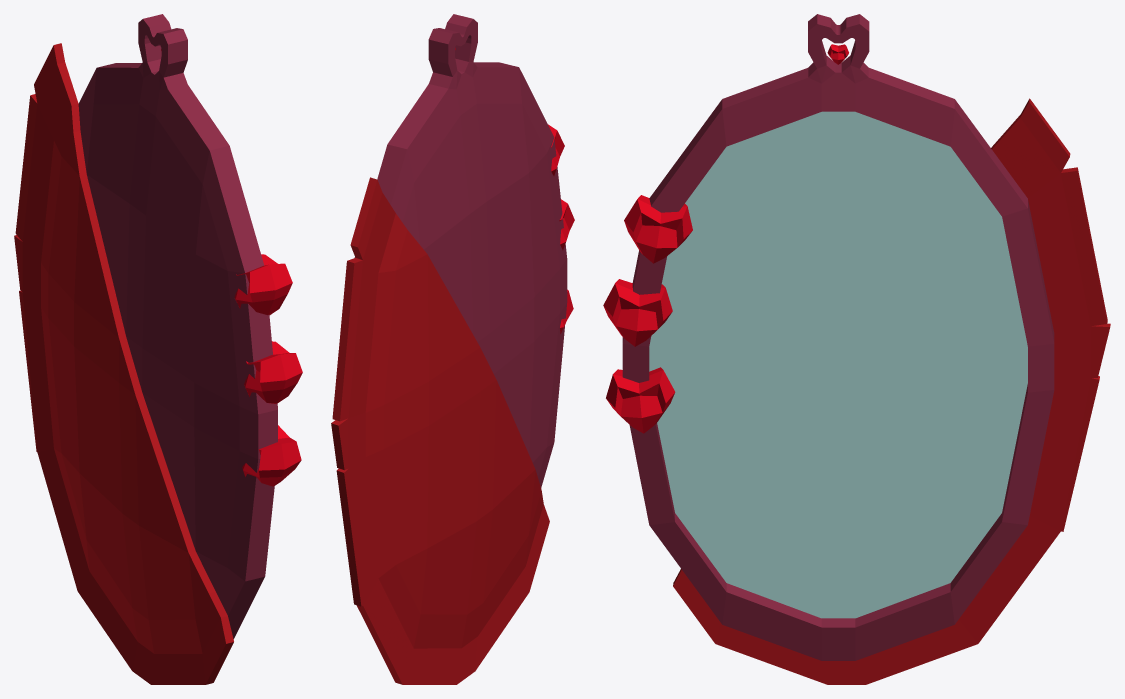
Rendered from mirror.glb.
3 renders of one model, left to right at view 1: azimuth 30°, elevation 25°; view 2: azimuth 150°, elevation 25°; view 3: azimuth 270°, elevation 25°, orthographic. The views are drawn at different scales.
Visible parts, largest first — view 1: Cube, Cube.001, Cube.002, Cube.003; view 2: Cube, Cube.001; view 3: Cube, Cube.001, Cube.003, Cube.002.
Boxes of the visible parts, x1,y1,x2,y2 form: Cube: (14,14,277,684); Cube.001: (244,341,302,403); Cube.002: (234,254,292,315); Cube.003: (242,425,301,486); Cube: (331,14,567,684); Cube.001: (559,199,574,250); Cube: (622,14,1110,684); Cube.001: (603,279,672,346); Cube.003: (606,367,675,433); Cube.002: (624,195,692,263).
Size of the model in its own units: 0.1613 by 1.47 by 1.
